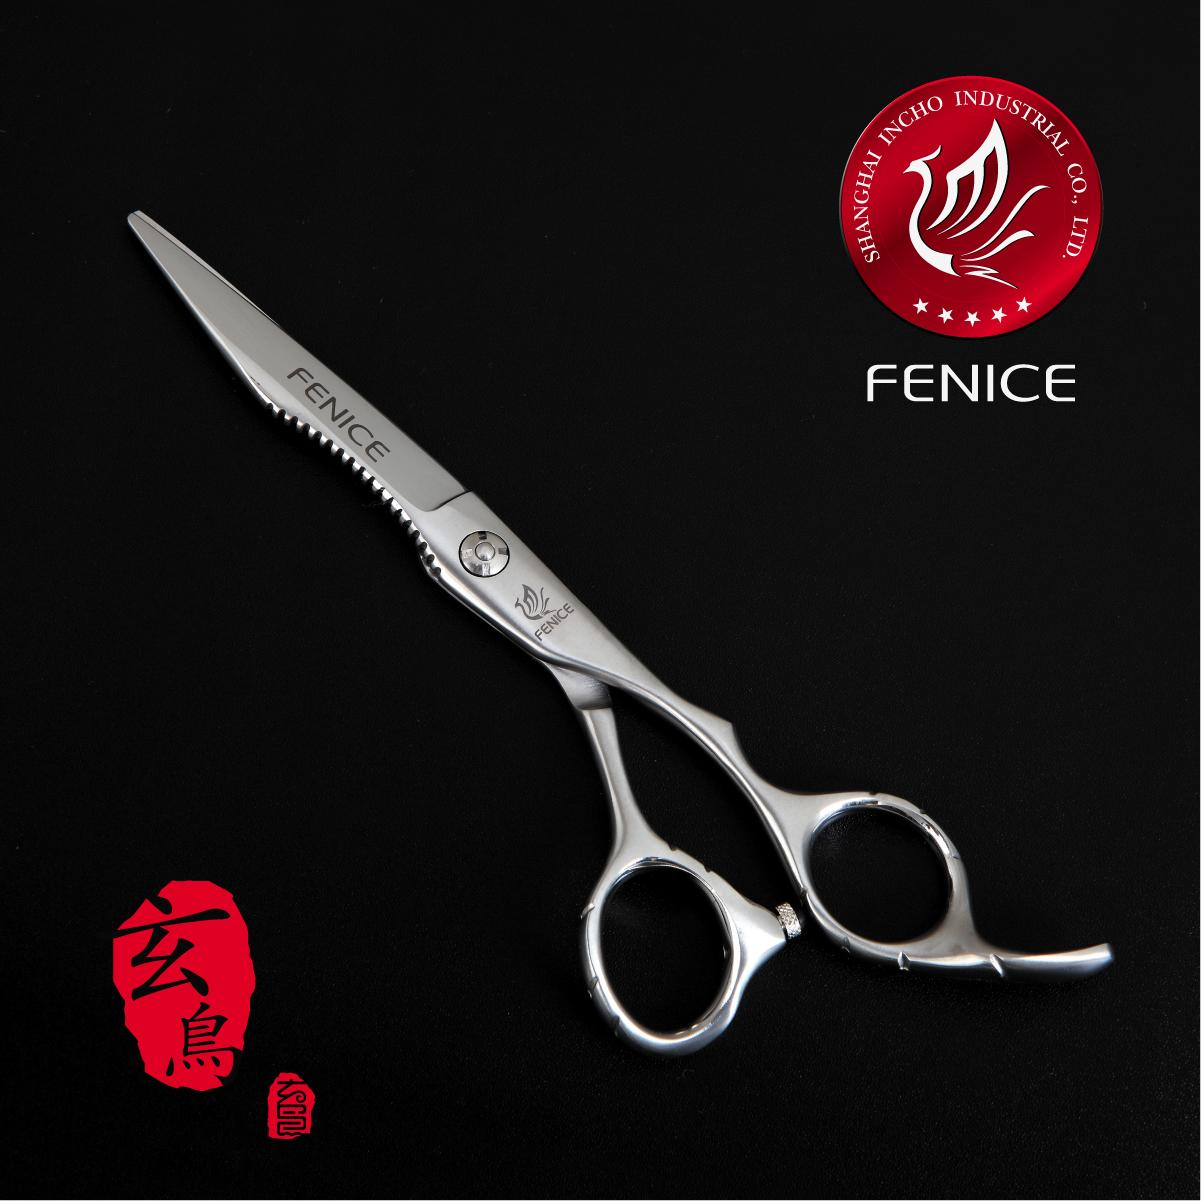scissor: (115, 172, 1099, 1091)
